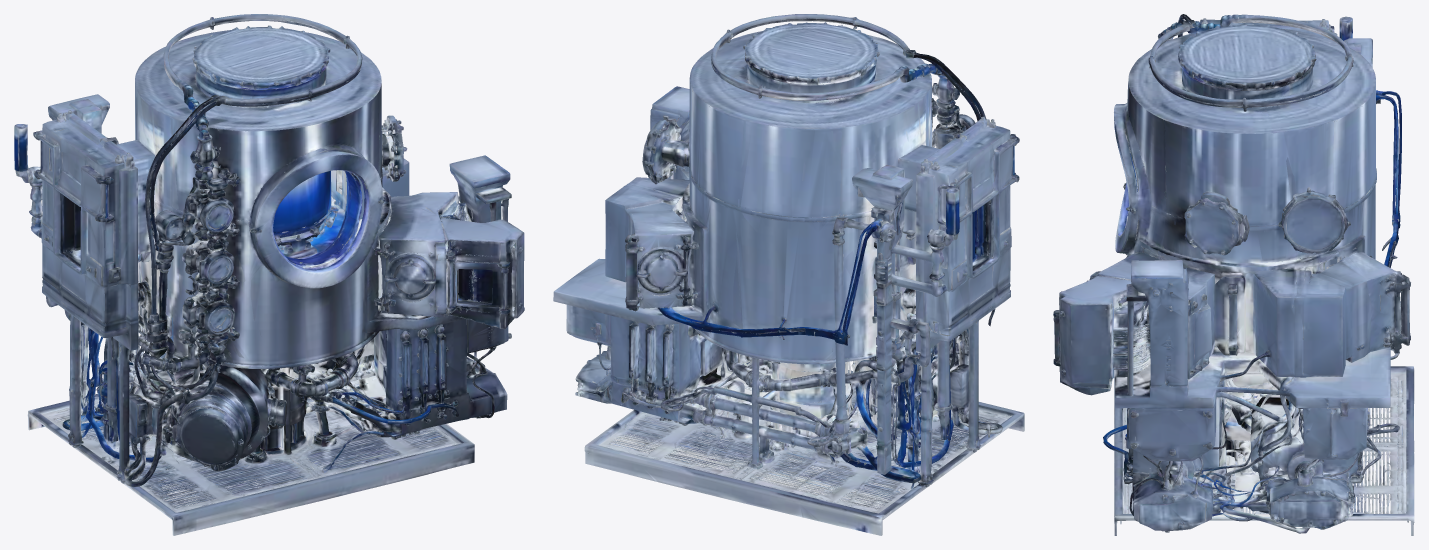
File: etch_chamber_hero.glb
3 renders of one model, left to right at view 1: azimuth 30°, elevation 25°; view 2: azimuth 150°, elevation 25°; view 3: azimuth 270°, elevation 25°, orthographic. The views are drawn at different scales.
Bounding box in the file's own units: 1.9 × 1.84 × 1.47.
Materials: 1 (1 with a texture image).
